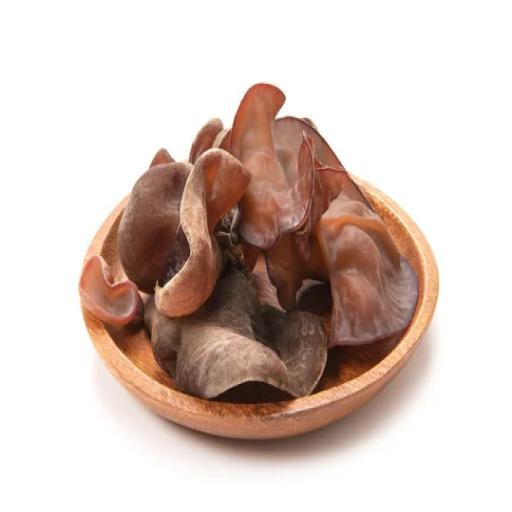mushroom: (129, 78, 417, 401), (67, 245, 158, 346)
